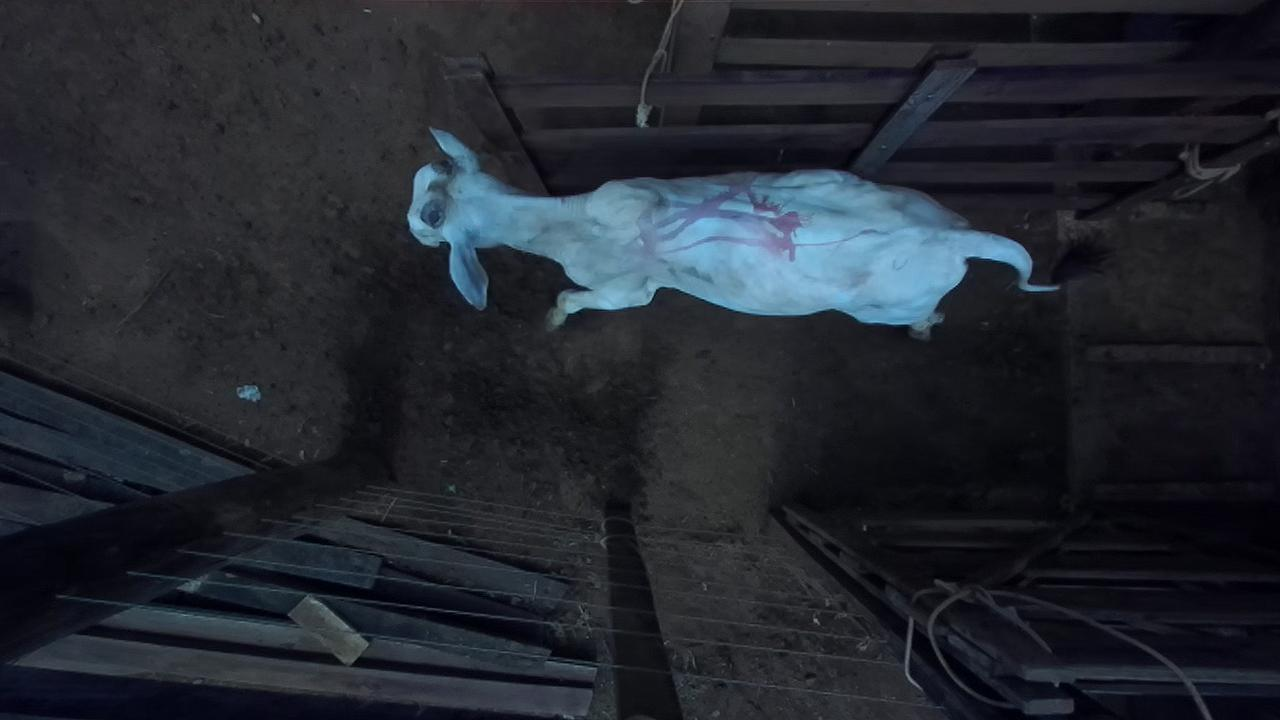cattle: (405, 125, 1061, 341)
